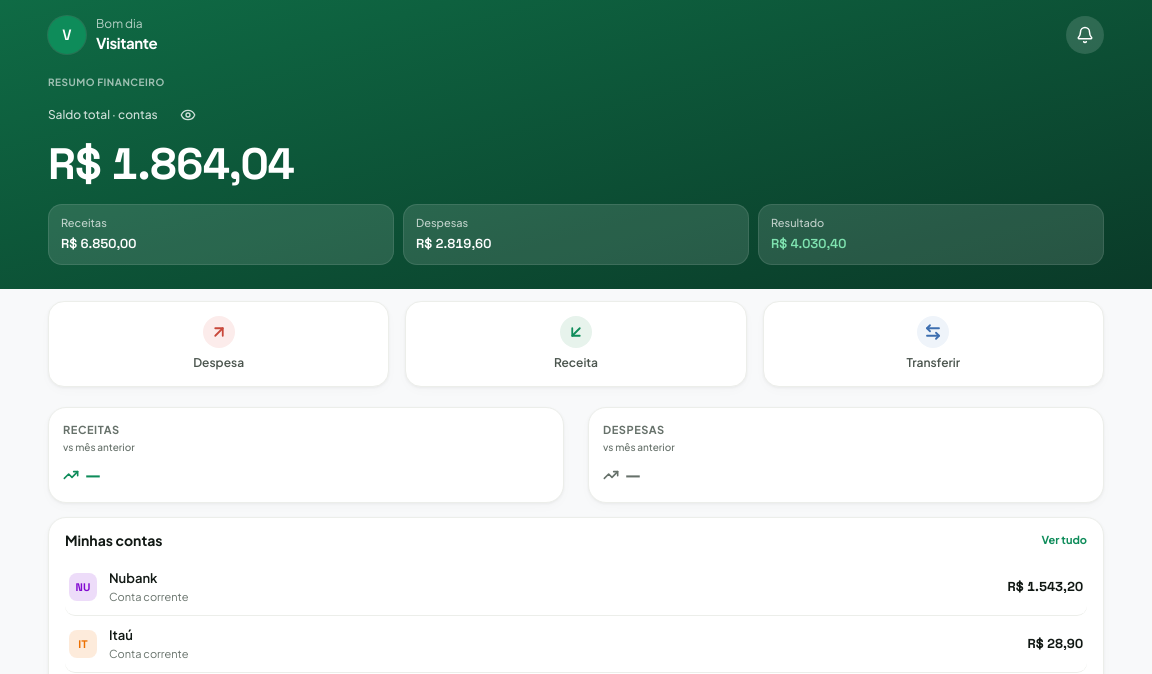
HomePage › P3: hide/show balance › masks hero balance + mini-stats behind the eye toggle with persistence
This screenshot has width=1152, height=674.
Check: the text "R$ 2.072,10" is shown, box [48, 136, 294, 192]
Check: the text "R$ 6.850,00" is shown, box [61, 235, 136, 252]
Click the button named "Ocultar saldos". click: click(188, 114)
box: [166, 92, 210, 136]
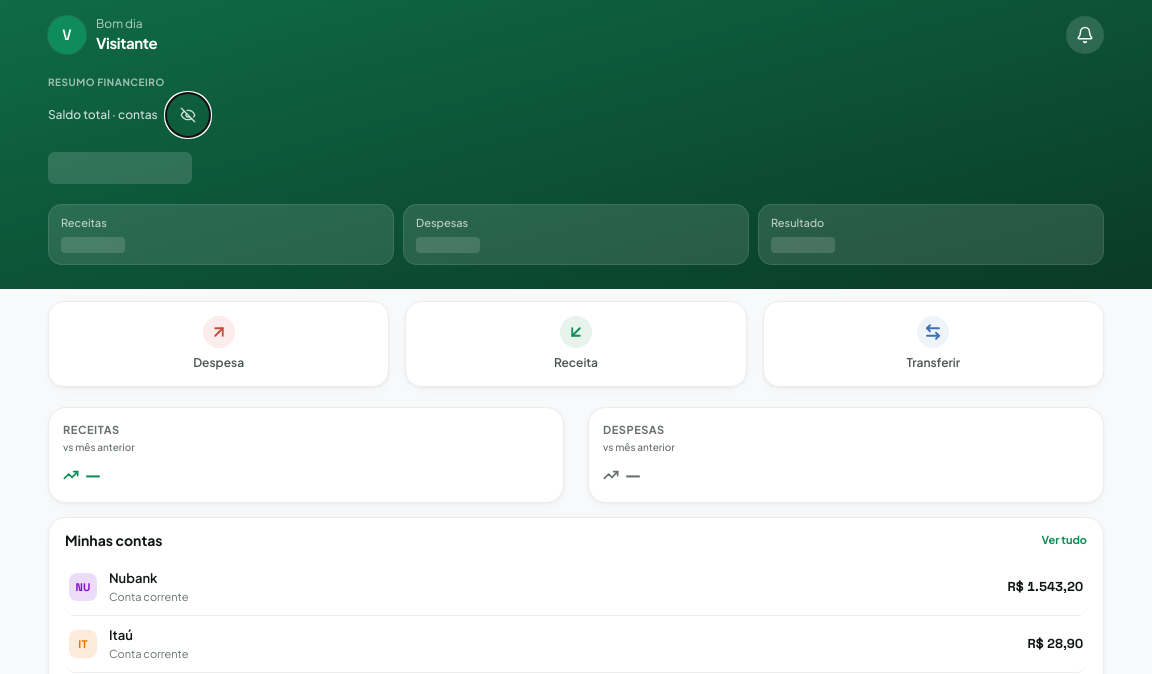
Check: the element with test id "balance-hidden" is shown, box [48, 152, 192, 184]
Check: the number of elements with test id "ministat-hidden" is 3, box [61, 237, 125, 253]; [416, 237, 480, 253]; [771, 237, 835, 253]
Check: the text "R$ 6.850,00" is gone
Click the button named "Mostrar saldos". click: click(188, 114)
box: [166, 92, 210, 136]
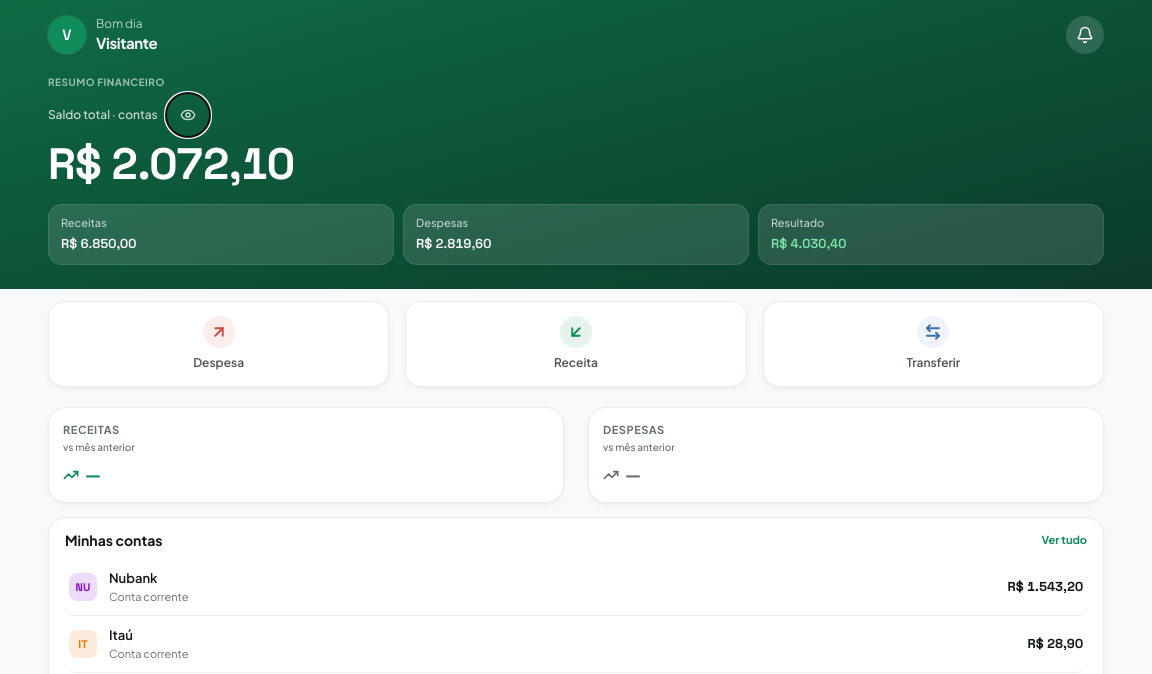
Check: the element with test id "balance-hidden" is gone
